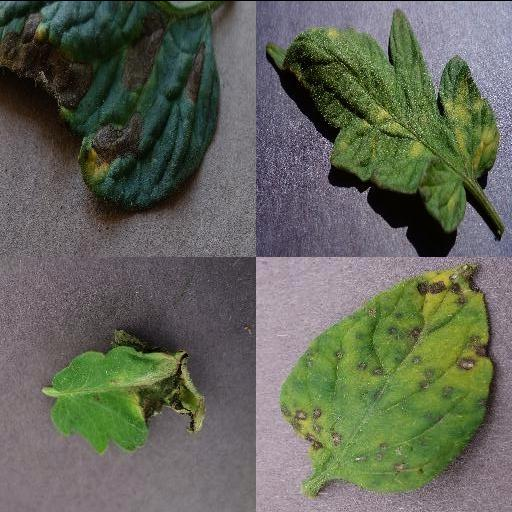Early Blight: (1, 0, 223, 209)
Late Blight: (48, 326, 210, 452)
Leaf Mold: (264, 8, 500, 230)
Septoria: (279, 261, 494, 493)
